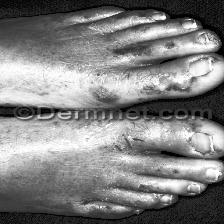Non-Cancerous Skin Condition: (0, 121, 224, 217), (0, 7, 219, 104)
